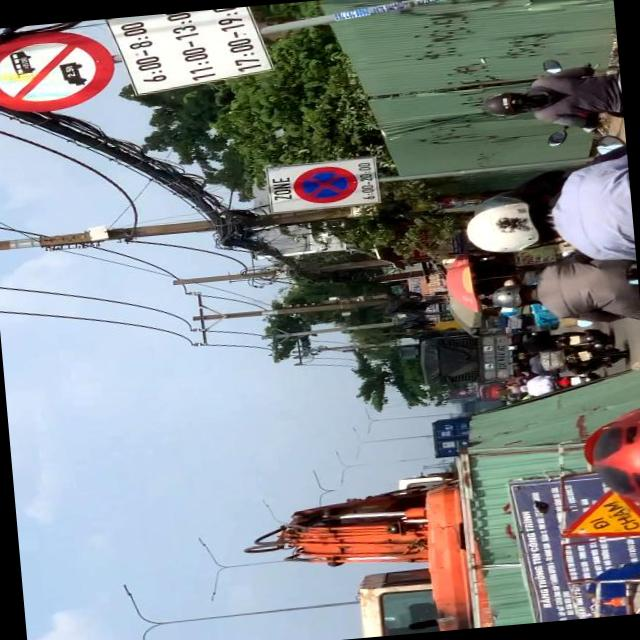P-130: (292, 162, 356, 206)
